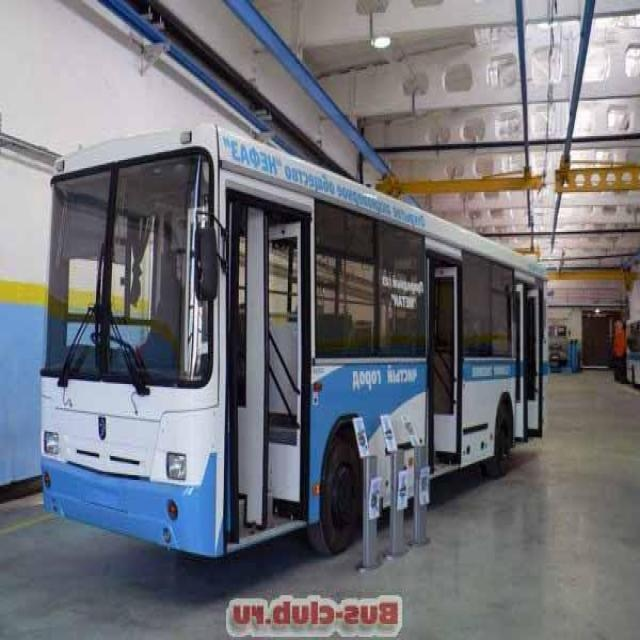Bus: (31, 112, 552, 566)
